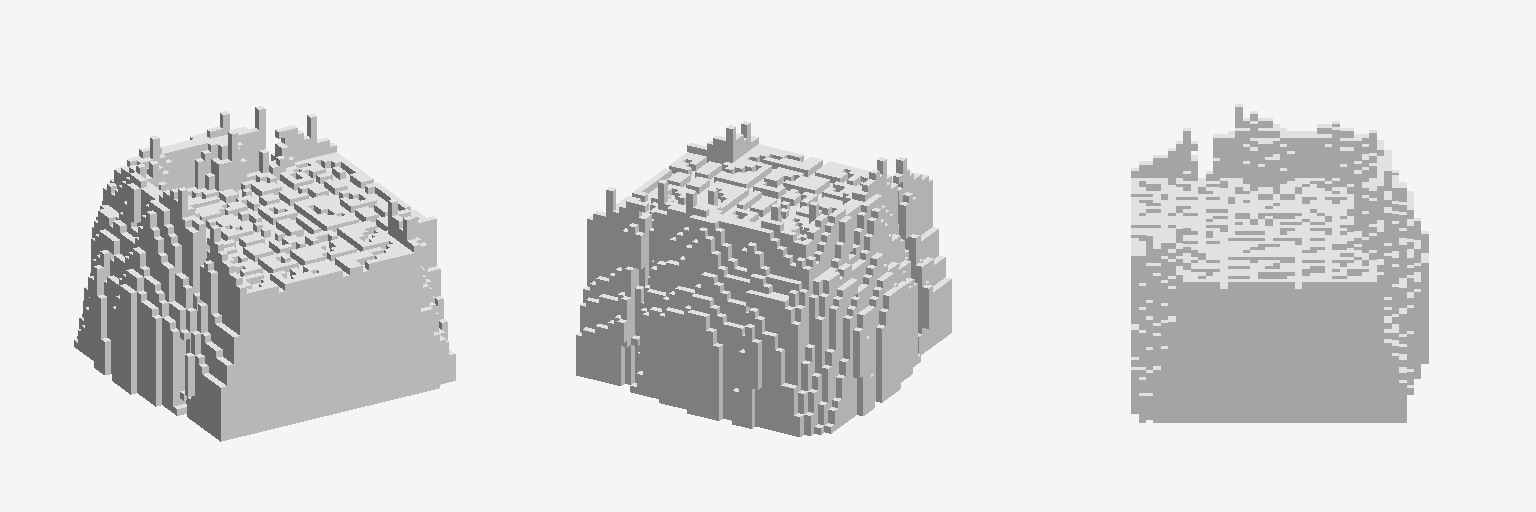
Rendered from Corner_Ice.obj.
3 renders of one model, left to right at view 1: azimuth 30°, elevation 25°; view 2: azimuth 150°, elevation 25°; view 3: azimuth 270°, elevation 25°, orthographic.
Size of the model in its own units: 40 by 31 by 40.